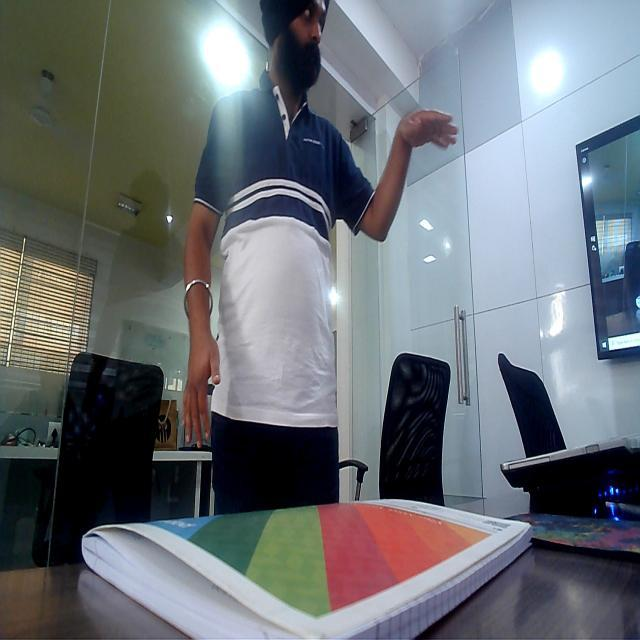without_gloves: (392, 94, 474, 186), (177, 326, 228, 452)
